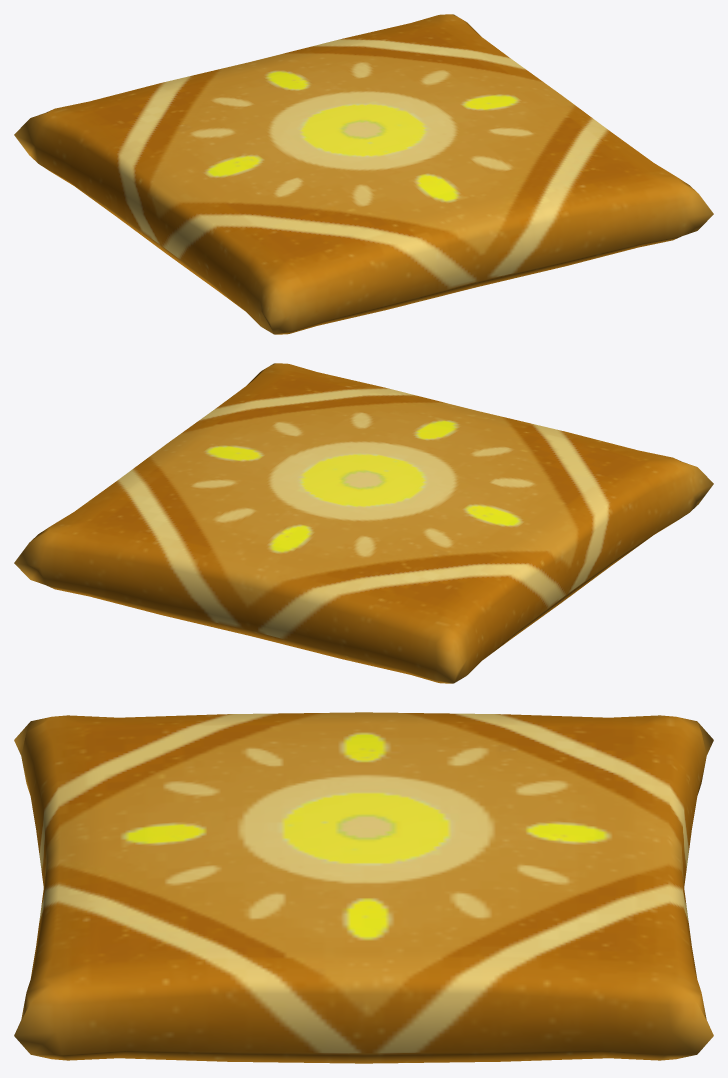
The model's file is pi_cushion01_01.gltf.
3 views of the same model, one above another, from view 1: azimuth 30°, elevation 25°; view 2: azimuth 150°, elevation 25°; view 3: azimuth 270°, elevation 25° (orthographic). The views are drawn at different scales.
Parts seen in each view (by area): view 1: pi_cushion01_01_mesh_shape:pi_cushion01; view 2: pi_cushion01_01_mesh_shape:pi_cushion01; view 3: pi_cushion01_01_mesh_shape:pi_cushion01.
Part boxes in pixels (x1,y1,x2,y2): pi_cushion01_01_mesh_shape:pi_cushion01: [14, 14, 713, 334]; pi_cushion01_01_mesh_shape:pi_cushion01: [14, 363, 713, 683]; pi_cushion01_01_mesh_shape:pi_cushion01: [14, 712, 713, 1063].
Size of the model in its own units: 1.36 by 0.261 by 1.36.
Materials: 1 (1 with a texture image).
